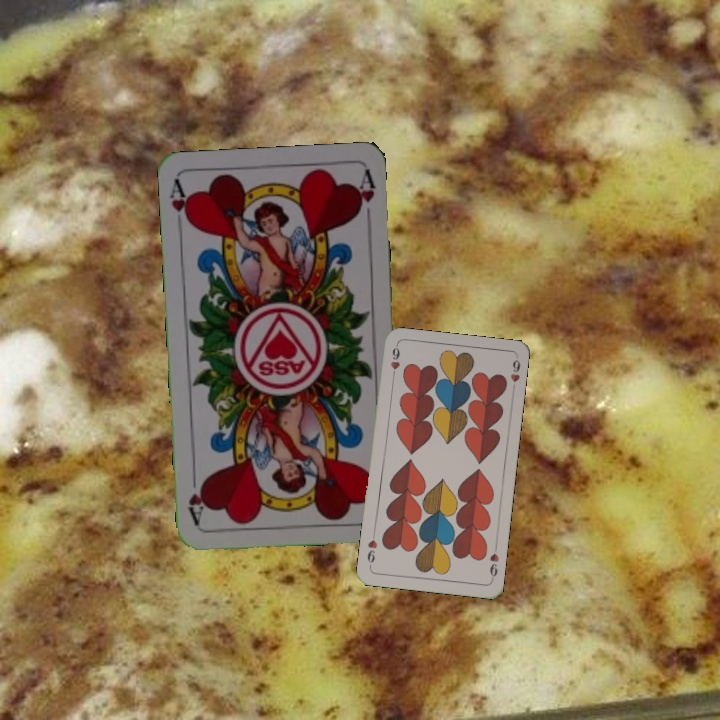H9: (486, 542, 501, 583), (387, 342, 402, 382)
HA: (165, 177, 194, 229)
